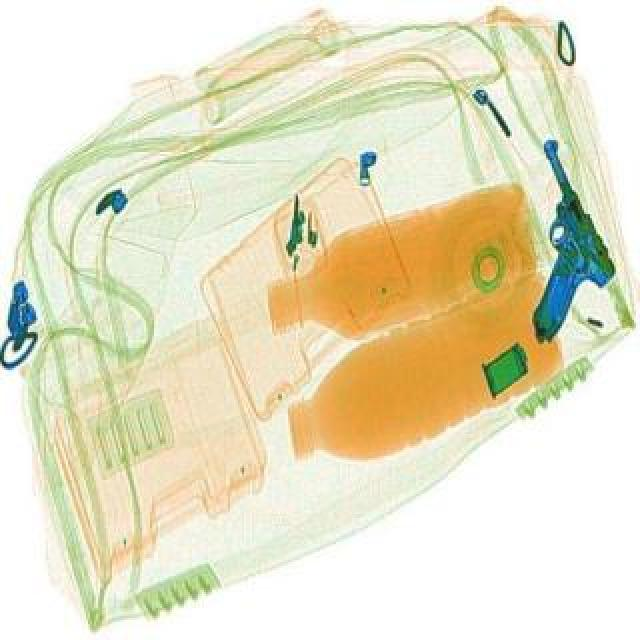gun: (498, 132, 632, 350)
